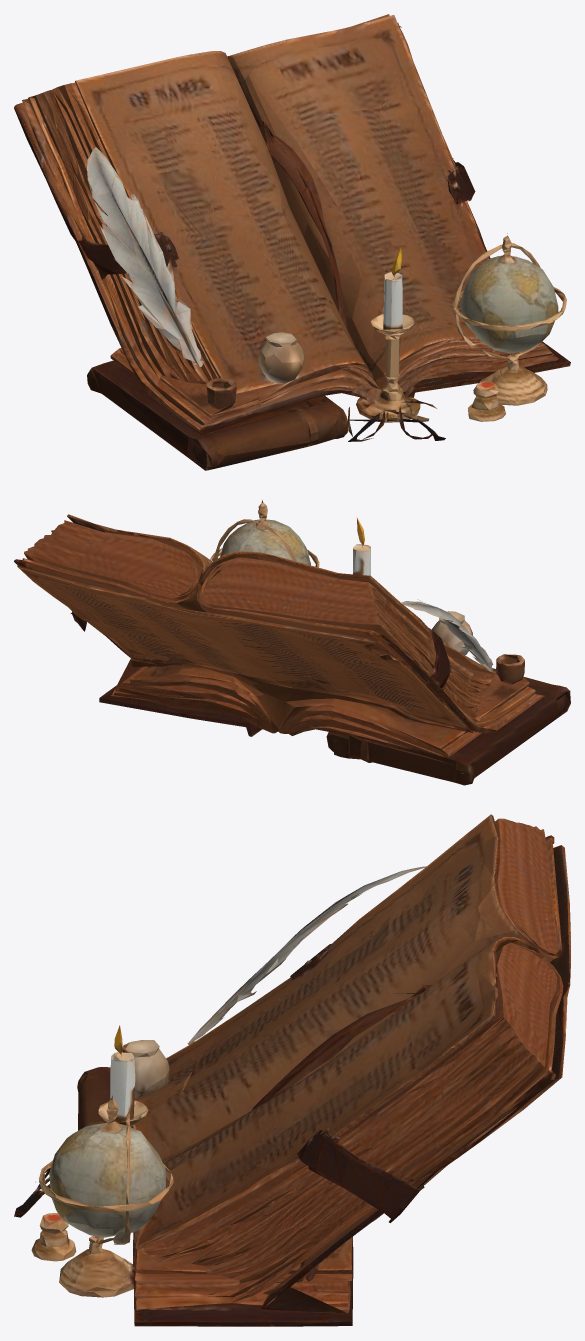
Rendered from xmas_ws_lead.glb.
3 renders of one model, top to bottom at view 1: azimuth 30°, elevation 25°; view 2: azimuth 150°, elevation 25°; view 3: azimuth 270°, elevation 25°, orthographic. The views are drawn at different scales.
Size of the model in its own units: 1.87 by 1.16 by 1.88.
Materials: 1 (1 with a texture image).
